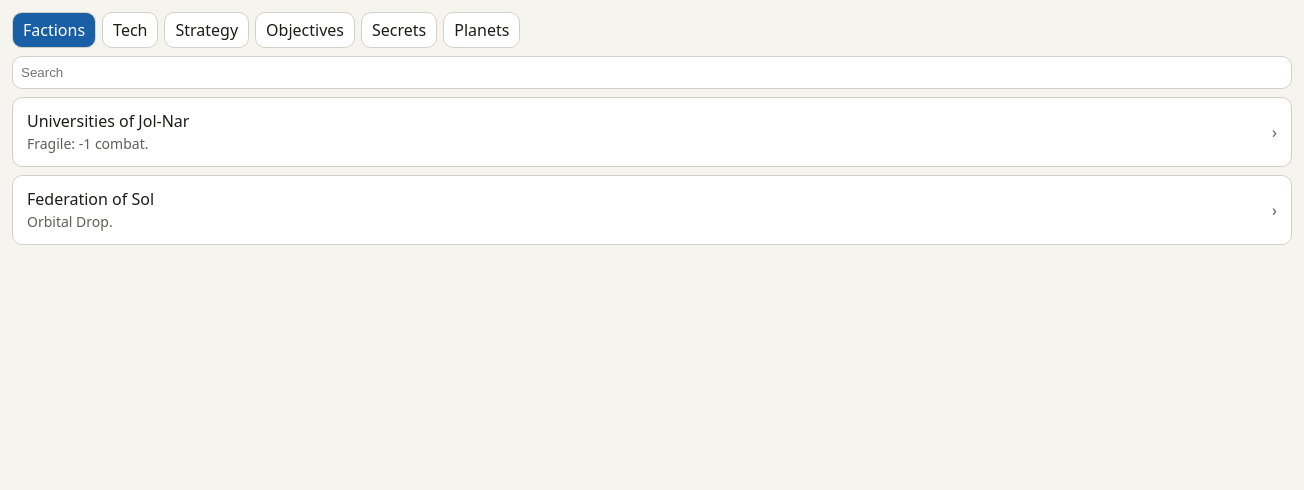
Test: ReferenceBrowser › switches to the technology list
Click the button "Tech" at (130, 30), box [102,12,158,48]
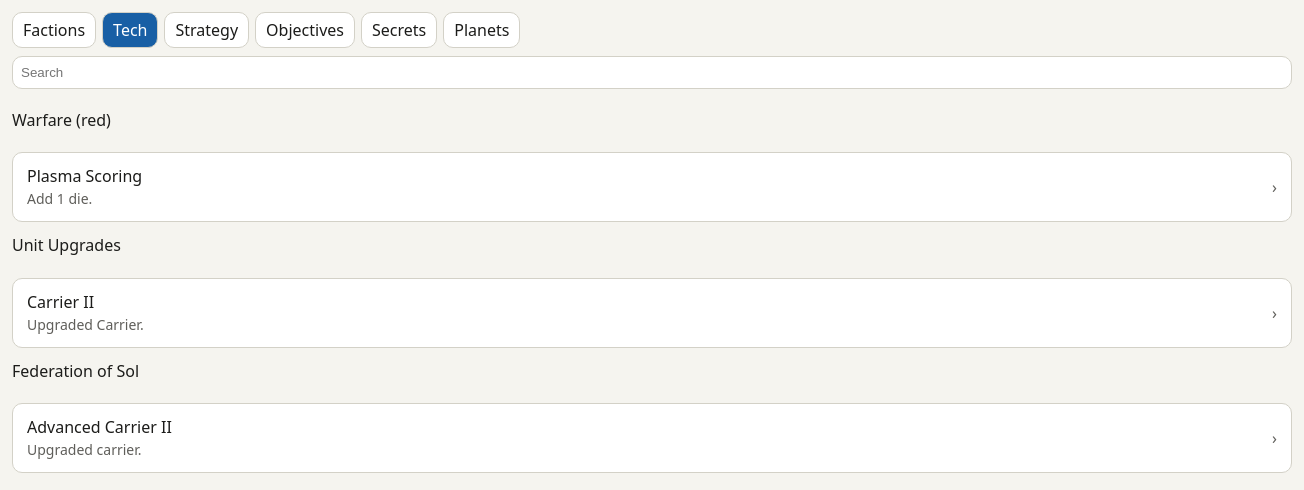
Expected: the text "Plasma Scoring" is shown, [27,165,142,187]
